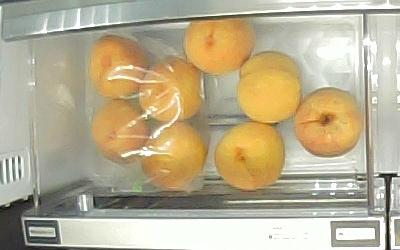peach: (292, 87, 362, 159), (214, 121, 286, 191), (237, 50, 302, 125), (182, 17, 254, 75)
peach_vinyl: (141, 121, 207, 189), (139, 56, 203, 122), (88, 33, 150, 98), (91, 99, 149, 164)
